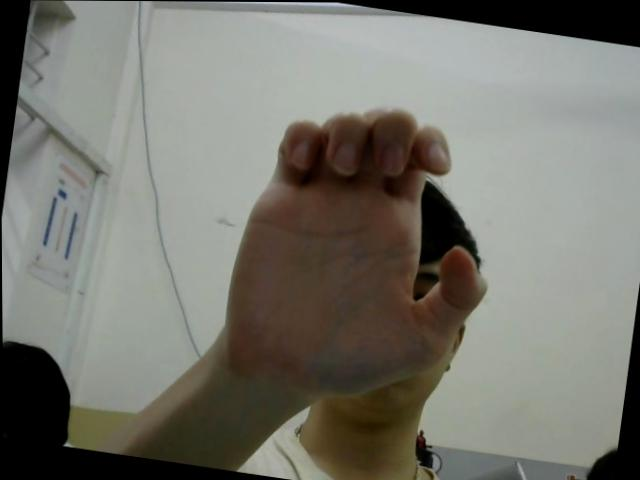E: (213, 83, 510, 415)
